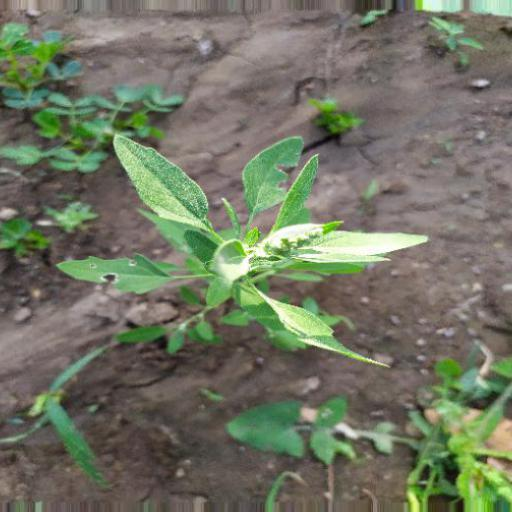weed: (64, 129, 444, 384)
